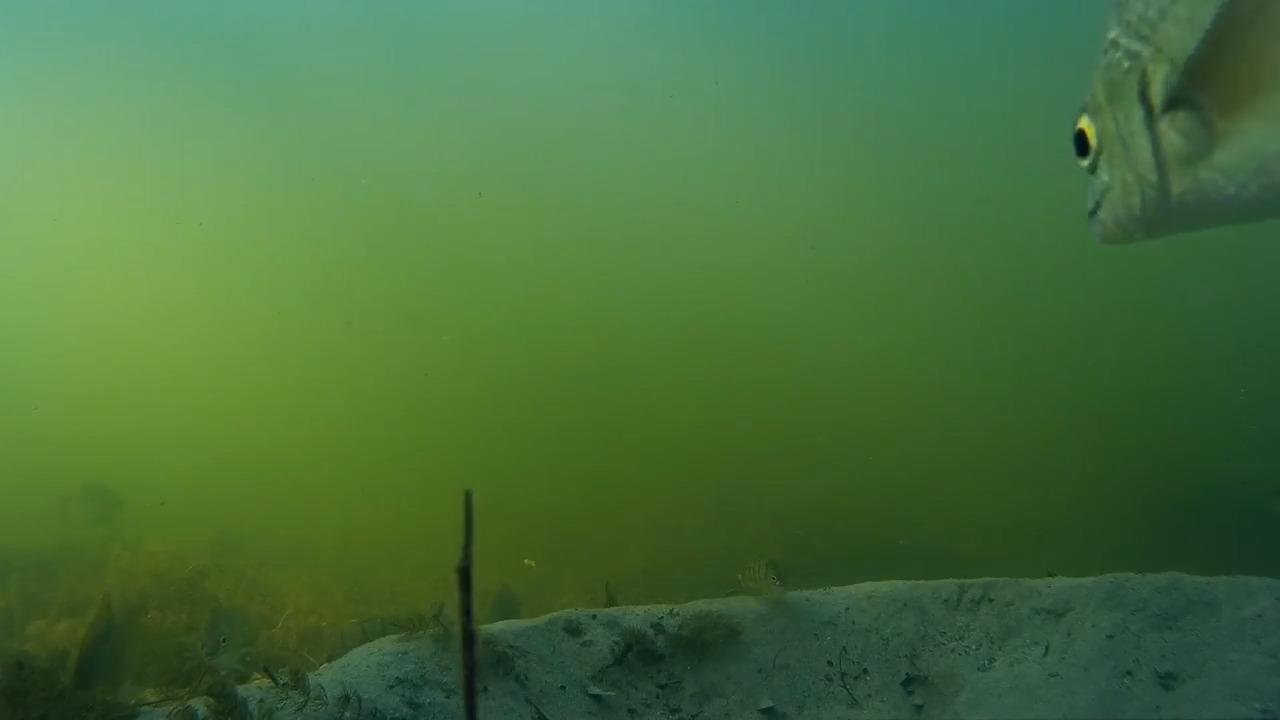Tilapia: (1059, 5, 1244, 257)
